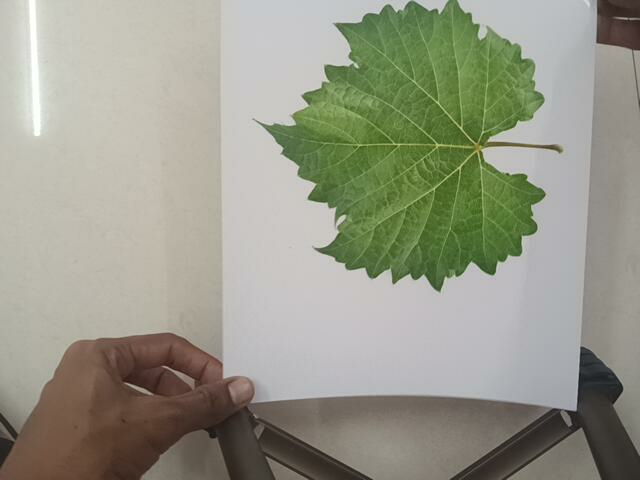Grape_Healthy: (248, 5, 573, 294)
